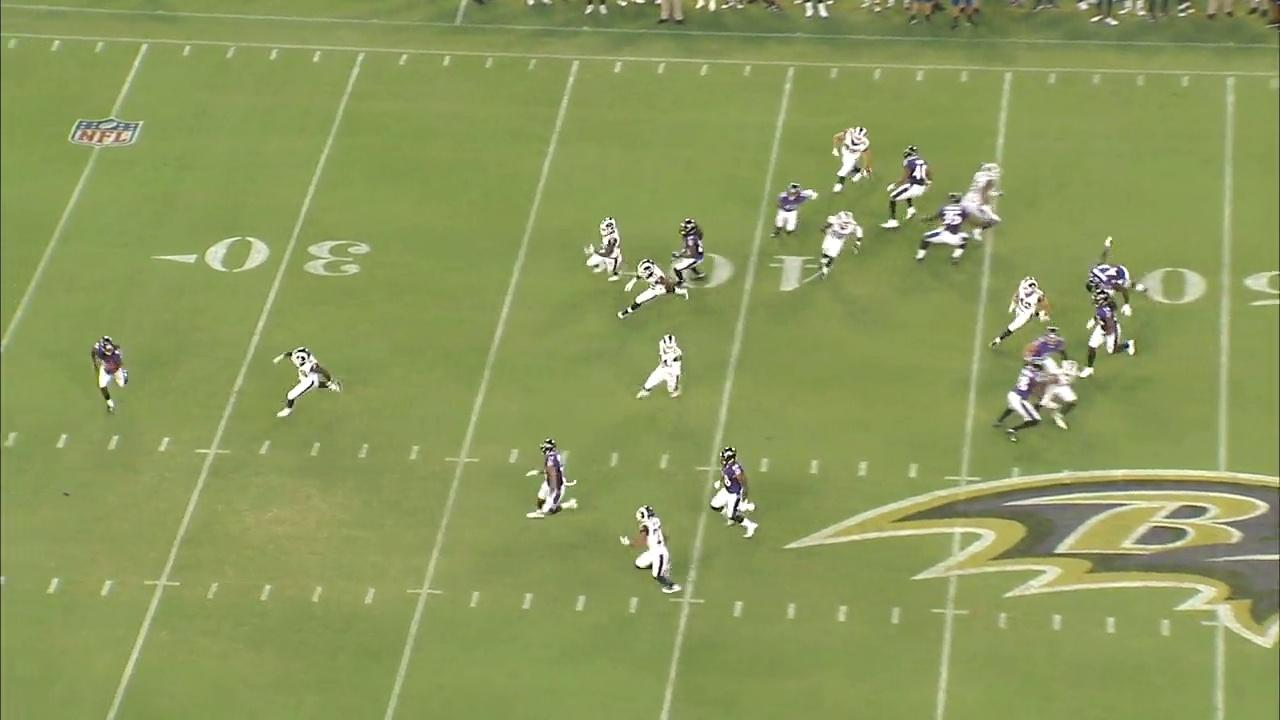number: (204, 233, 377, 277), (1141, 264, 1280, 307)
